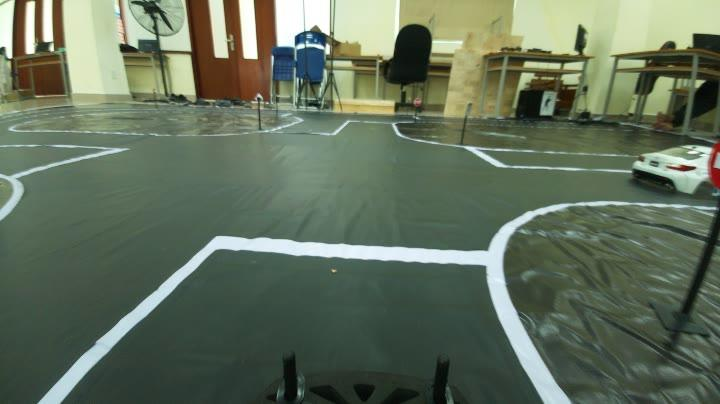car: (631, 142, 709, 194)
